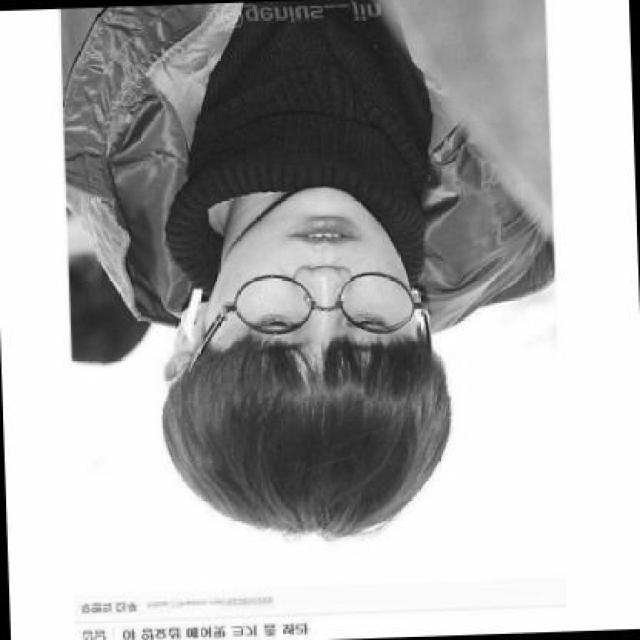earphone: (172, 278, 219, 335), (414, 286, 438, 344)
